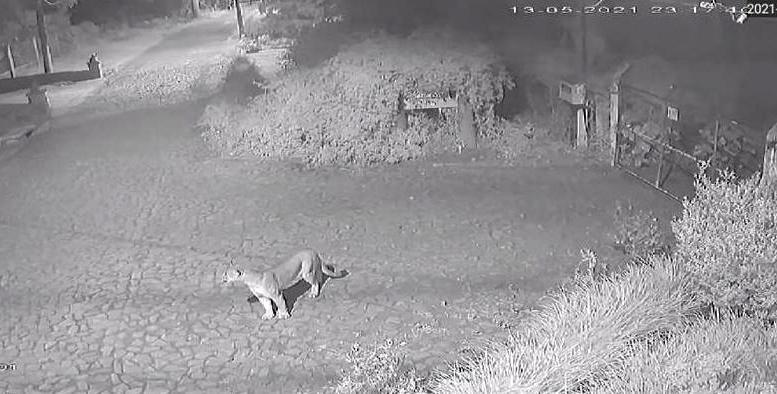OncaParda: (215, 246, 356, 328)
